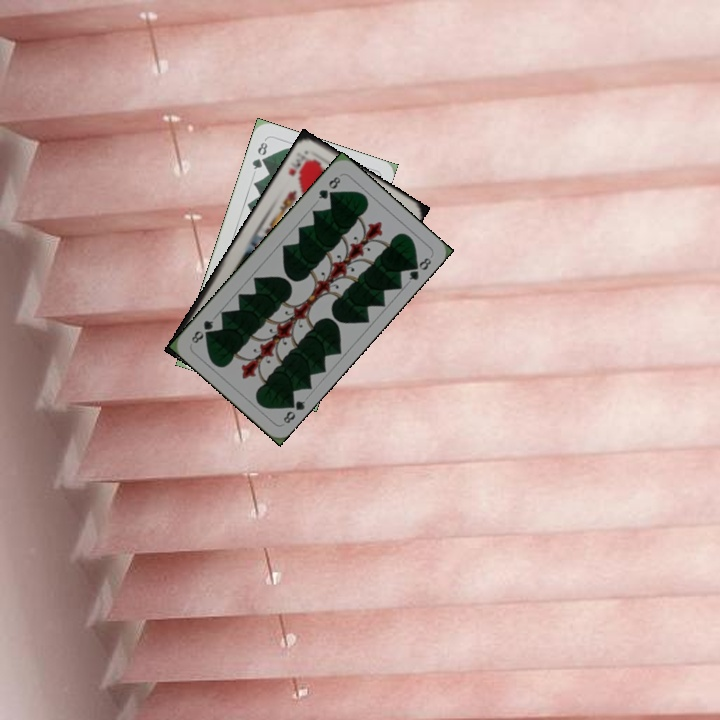G8: (279, 394, 308, 426), (314, 172, 343, 202), (248, 136, 270, 172)
HK: (284, 152, 310, 179)
